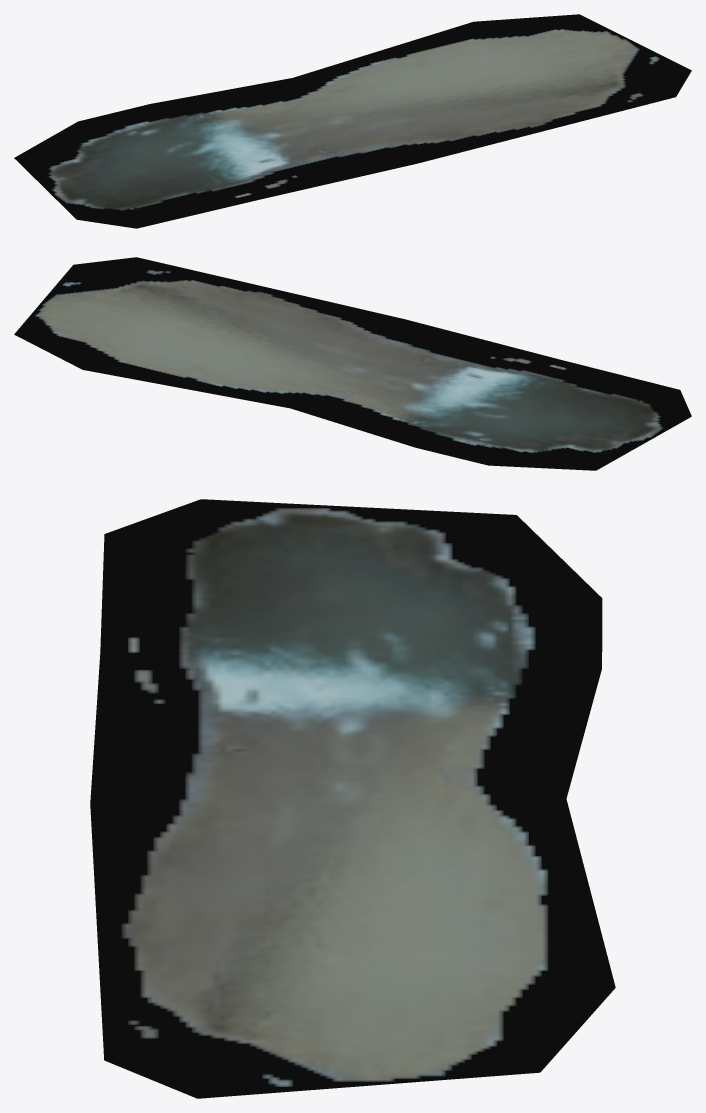
Rendered from sewer_puddle_1.FBX.
3 renders of one model, top to bottom at view 1: azimuth 30°, elevation 25°; view 2: azimuth 150°, elevation 25°; view 3: azimuth 270°, elevation 25°, orthographic. The views are drawn at different scales.
Parts seen in each view (by area): view 1: sewer_puddle_1; view 2: sewer_puddle_1; view 3: sewer_puddle_1.
Boxes of the visible parts, x1=… form: sewer_puddle_1: x1=14, y1=14, x2=691, y2=228; sewer_puddle_1: x1=14, y1=257, x2=691, y2=470; sewer_puddle_1: x1=90, y1=499, x2=615, y2=1098.
Bounding box in the file's own units: 85.24 × 1.31e-05 × 31.57.
